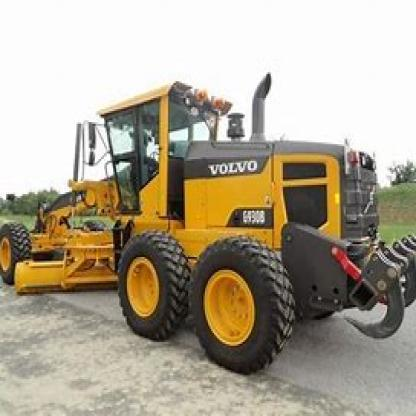bull_dozer/loader/grader: (0, 57, 407, 377)
